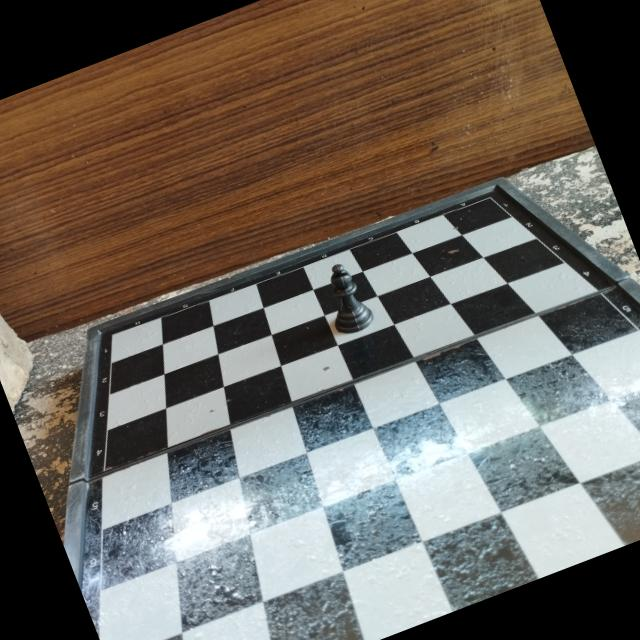Black Bishop: (312, 252, 386, 347)
